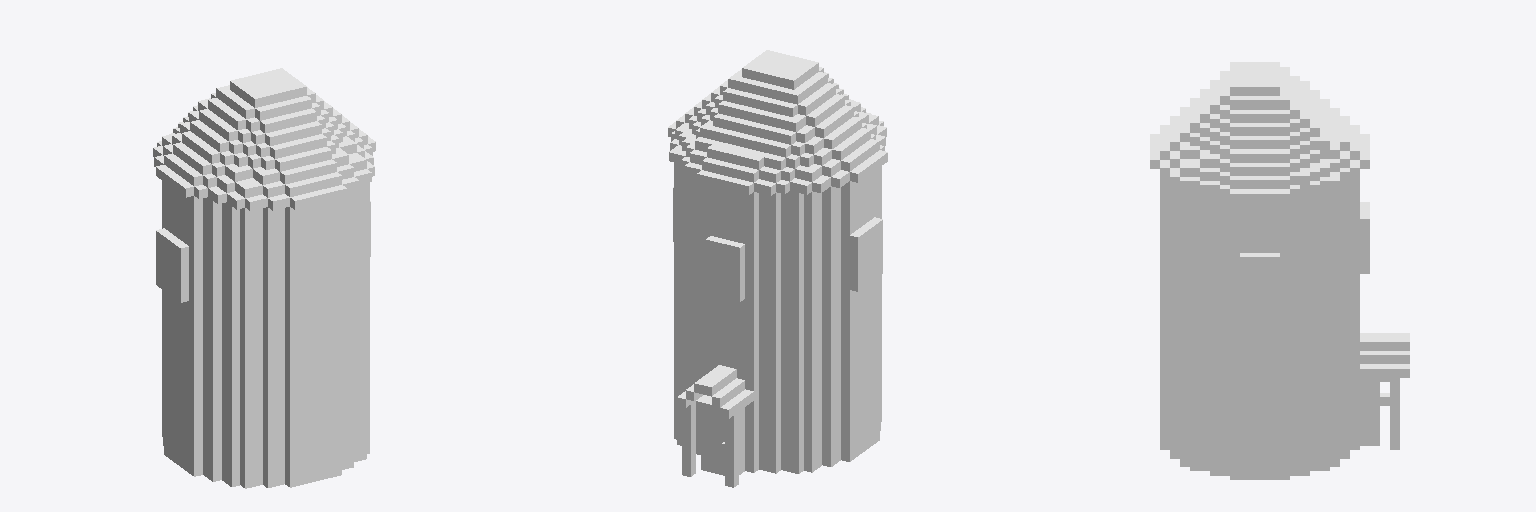
Rendered from home_long.obj.
3 views of the same model, side by side, from view 1: azimuth 30°, elevation 25°; view 2: azimuth 150°, elevation 25°; view 3: azimuth 270°, elevation 25° (orthographic).
Parts seen in each view (by area): view 1: object 1; view 2: object 1; view 3: object 1.
Boxes of the visible parts, <box> form: object 1: <box>153,68,375,488</box>; object 1: <box>668,50,887,487</box>; object 1: <box>1150,62,1409,479</box>.
Bounding box in the file's own units: 2.2 × 4 × 2.6.